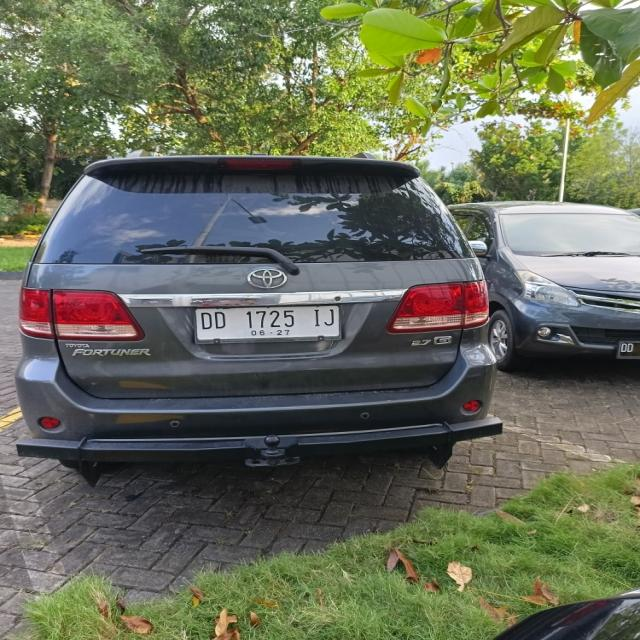plates: (190, 301, 348, 342)
